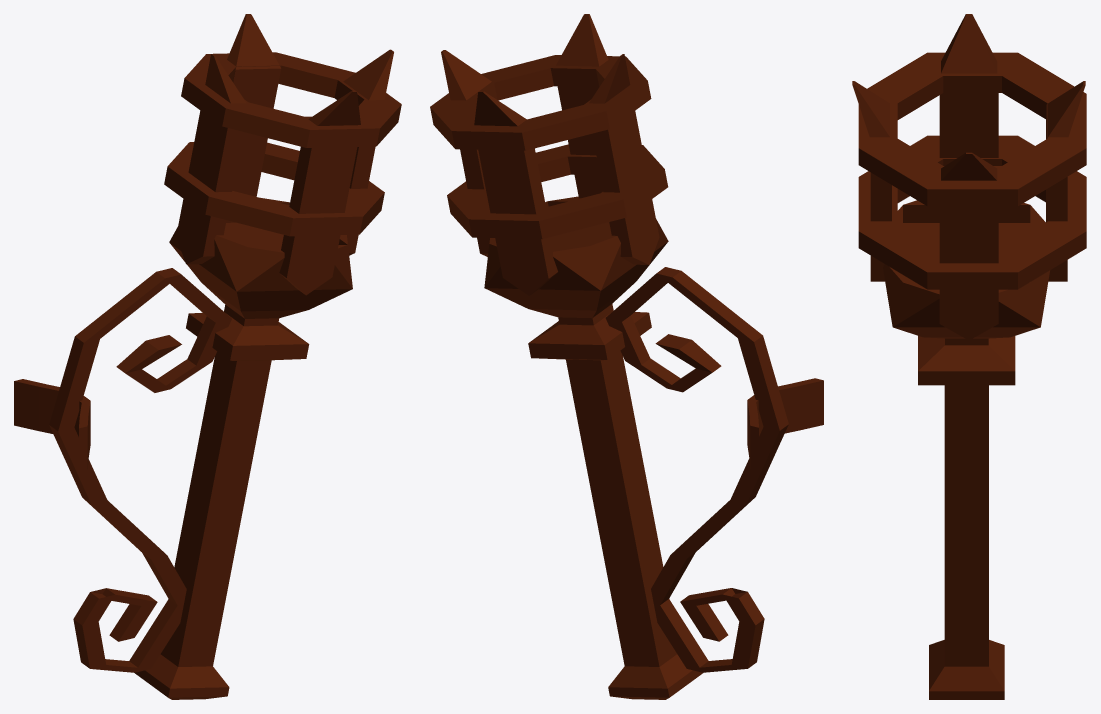
The model's file is light_holder.glb.
The picture shows the model from 3 angles, left to right: view 1: azimuth 30°, elevation 25°; view 2: azimuth 150°, elevation 25°; view 3: azimuth 270°, elevation 25°; orthographic projection. The views are drawn at different scales.
Visible parts, largest first — view 1: Cube.002, Cube.004, Cube, Plane, Cube.001; view 2: Cube.002, Plane, Cube.004, Cube, Cube.001; view 3: Plane, Cube.002, Cube.004.
Boxes of the visible parts, left/top/right/bottom form: Cube.002: left=134, top=197, right=352, bottom=699; Cube.004: left=176, top=14, right=393, bottom=295; Cube: left=49, top=268, right=231, bottom=672; Plane: left=164, top=52, right=401, bottom=236; Cube.001: left=14, top=379, right=90, bottom=472; Cube.002: left=484, top=196, right=703, bottom=699; Plane: left=430, top=55, right=668, bottom=239; Cube.004: left=441, top=14, right=659, bottom=295; Cube: left=605, top=267, right=788, bottom=672; Cube.001: left=747, top=378, right=823, bottom=472; Plane: left=858, top=52, right=1086, bottom=289; Cube.002: left=883, top=200, right=1049, bottom=699; Cube.004: left=852, top=14, right=1085, bottom=340.
Size of the model in its own units: 6.88 by 11.95 by 3.66.
